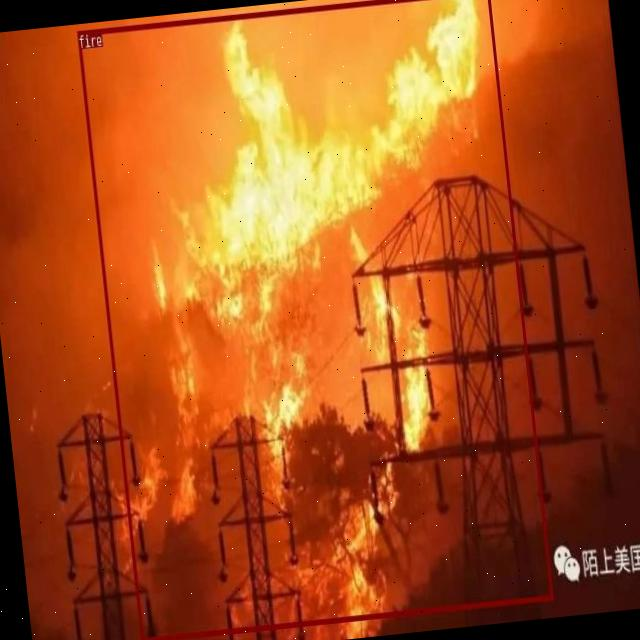fire: (76, 0, 552, 640)
